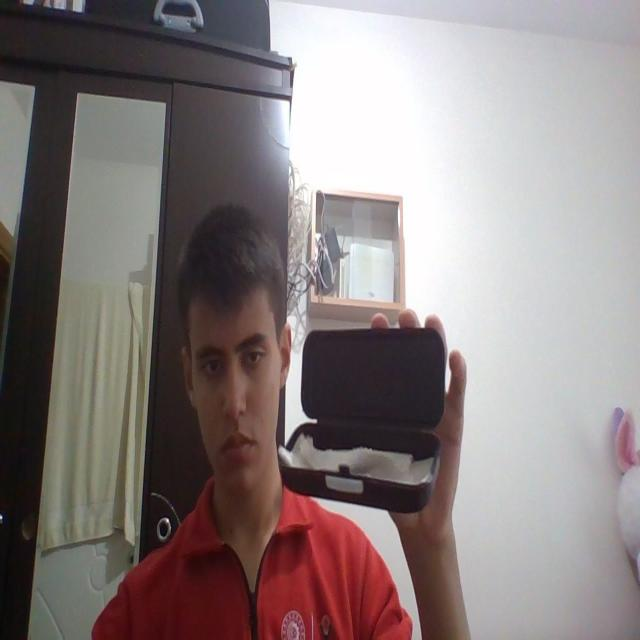glasses-box: (279, 324, 446, 512)
